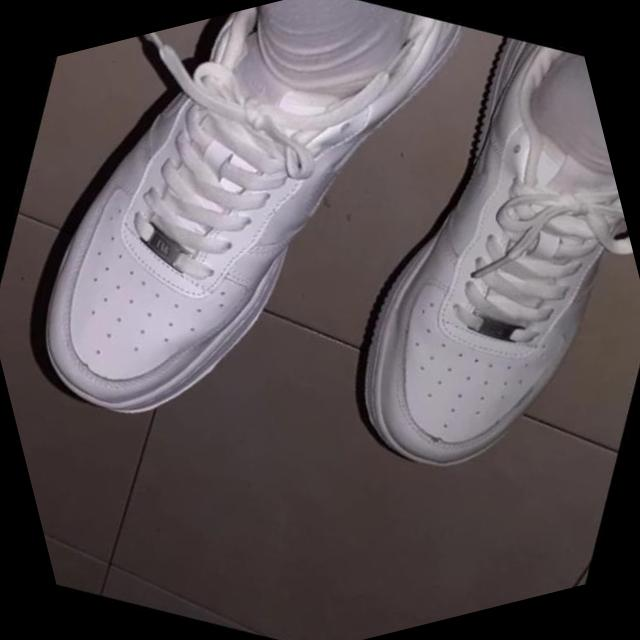nike_fake_airforce: (0, 0, 558, 546), (241, 0, 640, 566)
